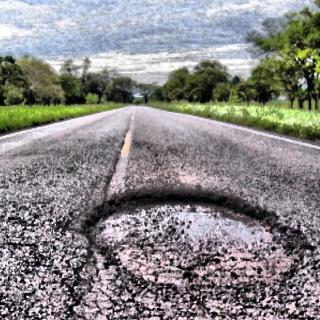alligator-crack: (16, 245, 320, 320)
pothole: (83, 187, 304, 298)
